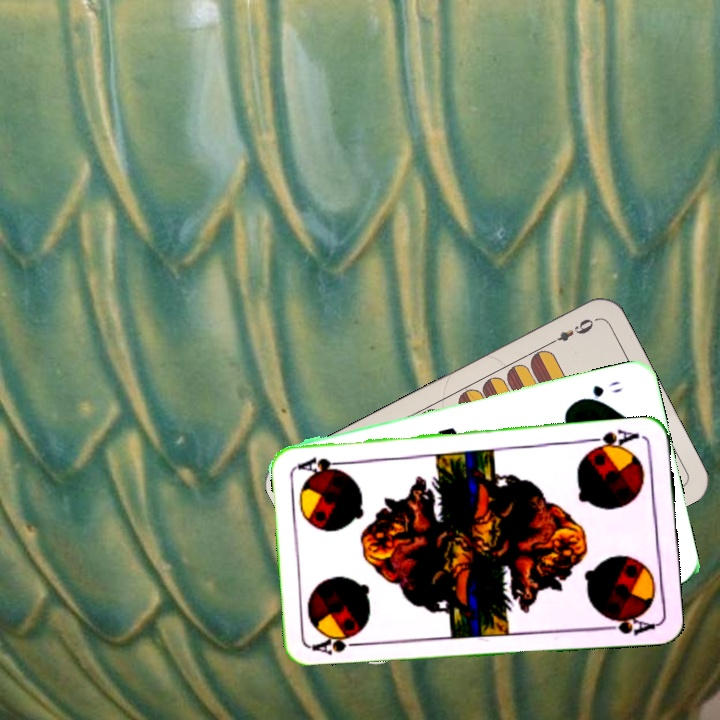E9: (544, 314, 599, 348)
GO: (574, 376, 625, 404)
SA: (584, 425, 642, 455), (308, 630, 367, 658)
